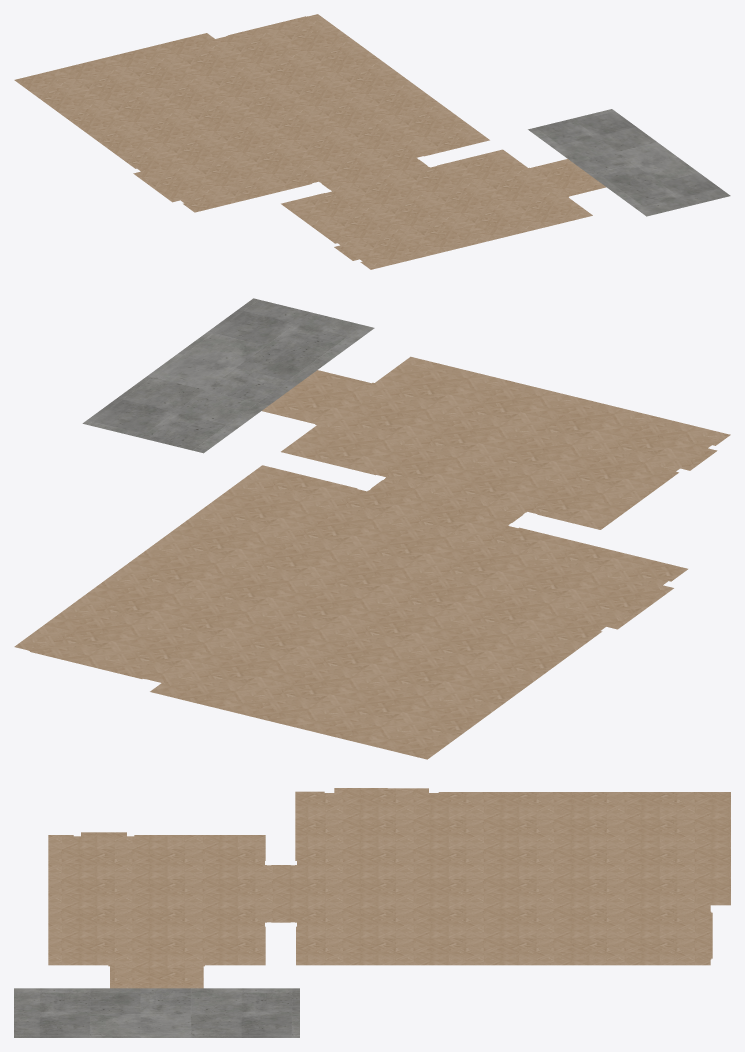
File: Pavimento.glb
3 views of the same model, one above another, from view 1: azimuth 30°, elevation 25°; view 2: azimuth 150°, elevation 25°; view 3: azimuth 270°, elevation 25° (orthographic). The views are drawn at different scales.
Parts seen in each view (by area): view 1: Floor; view 2: Floor; view 3: Floor.
Boxes of the visible parts, x1,y1,x2,y2 form: Floor: (14,14,730,269); Floor: (14,298,730,759); Floor: (14,788,730,1037).
Size of the model in its own units: 11.92 by 2.38e-07 by 14.46.
Materials: 2 (2 with a texture image).
